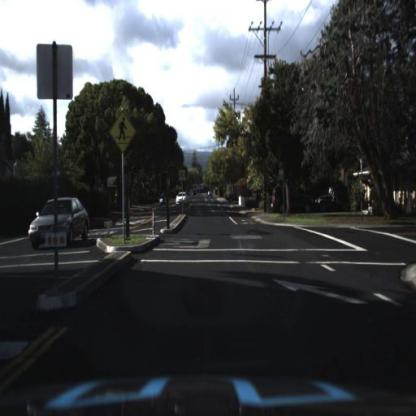car: (25, 196, 92, 252), (273, 186, 311, 217), (314, 180, 350, 212), (224, 187, 242, 207), (173, 191, 192, 207)
